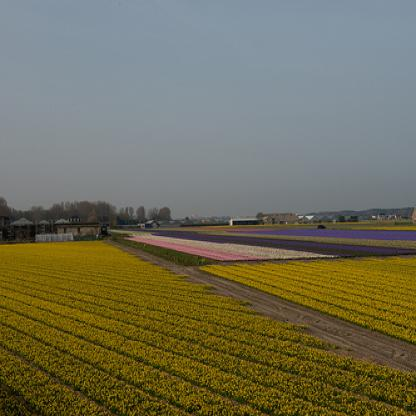TULIP: (136, 230, 366, 256)
